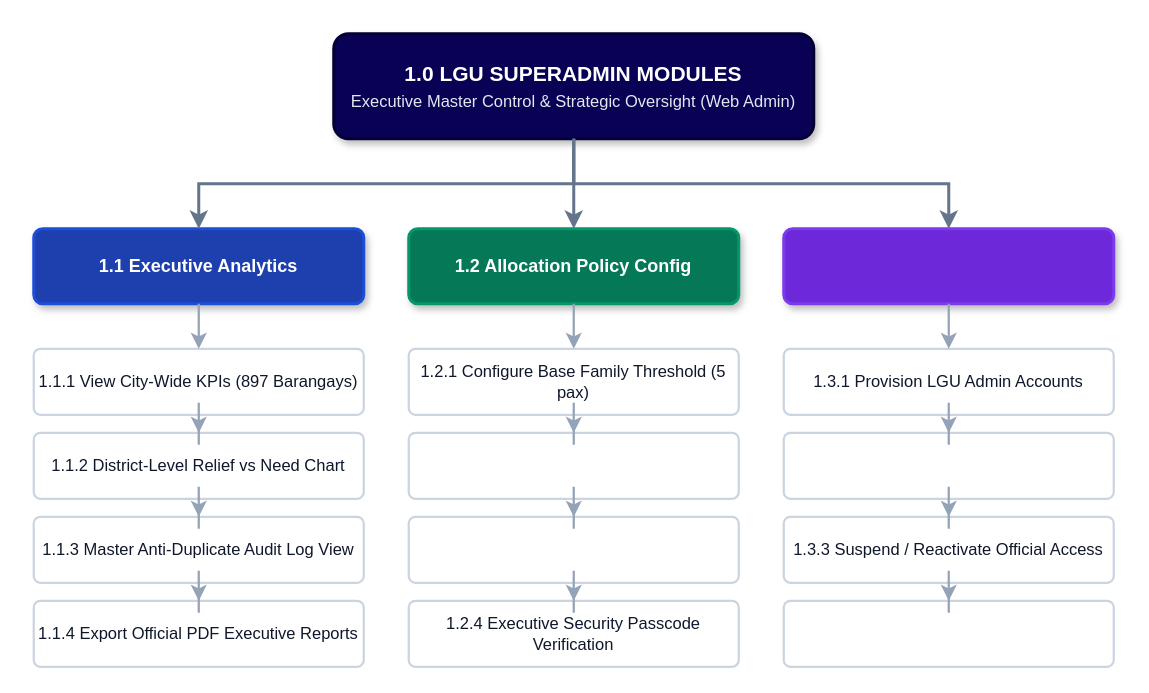
The diagram is 1149 pixels wide and 693 high, and some of its shapes have lost their labels. Each missing label, with the centre of its shape:
"1.2.2 Set Vulnerability Top-Up Multipliers" belongs at [573,465].
"1.2.3 Triple-Confirmation Warning Modal" belongs at [573,549].
"1.3 Account Governance" belongs at [950,267].
"1.3.2 Provision Barangay Official Accounts" belongs at [948,465].
"1.3.4 Permanent Deactivation & Deletion" belongs at [948,633].
